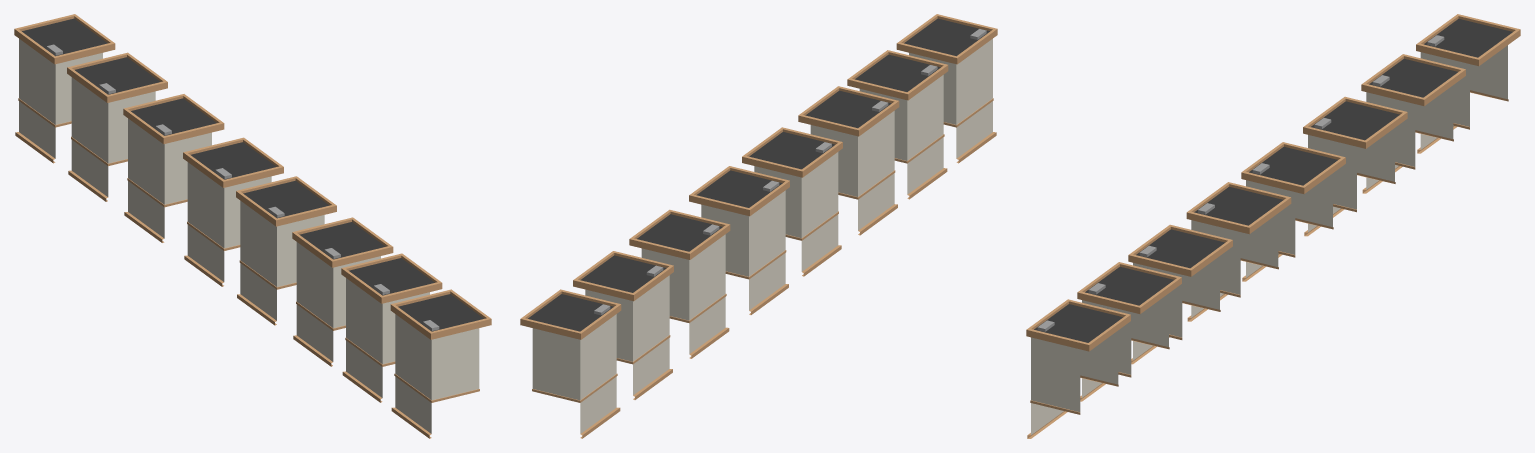
File: SupermarketDestroyedBuildings.fbx
The picture shows the model from 3 angles, left to right: view 1: azimuth 30°, elevation 25°; view 2: azimuth 150°, elevation 25°; view 3: azimuth 330°, elevation 25°; orthographic projection. The views are drawn at different scales.
Visible parts, largest first — view 1: Flat2.007, Flat2.032, Flat2.001, Flat2.004, Flat2.005, Flat2.002, Flat2.003, Flat2.006; view 2: Flat2.002, Flat2.005, Flat2.032, Flat2.003, Flat2.004, Flat2.001, Flat2.006, Flat2.007; view 3: Flat2.007, Flat2.032, Flat2.001, Flat2.004, Flat2.005, Flat2.002, Flat2.006, Flat2.003.
Boxes of the visible parts, x1,y1,x2,y2 form: Flat2.007: (390, 289, 491, 438); Flat2.032: (123, 94, 224, 242); Flat2.001: (67, 52, 167, 201); Flat2.004: (236, 176, 336, 325); Flat2.005: (183, 137, 283, 286); Flat2.002: (14, 14, 115, 163); Flat2.003: (292, 217, 393, 366); Flat2.006: (341, 253, 442, 402); Flat2.002: (520, 289, 621, 438); Flat2.005: (689, 166, 789, 314); Flat2.032: (629, 209, 730, 358); Flat2.003: (798, 86, 899, 235); Flat2.004: (742, 127, 842, 276); Flat2.001: (573, 251, 673, 399); Flat2.006: (847, 50, 948, 199); Flat2.007: (896, 14, 997, 163); Flat2.007: (1026, 299, 1130, 438); Flat2.032: (1303, 96, 1407, 236); Flat2.001: (1361, 54, 1465, 193); Flat2.004: (1186, 182, 1291, 321); Flat2.005: (1241, 142, 1345, 281); Flat2.002: (1416, 14, 1520, 153); Flat2.006: (1077, 262, 1181, 401); Flat2.003: (1128, 224, 1232, 364).
Size of the model in its own units: 9.98 by 16.7 by 118.
